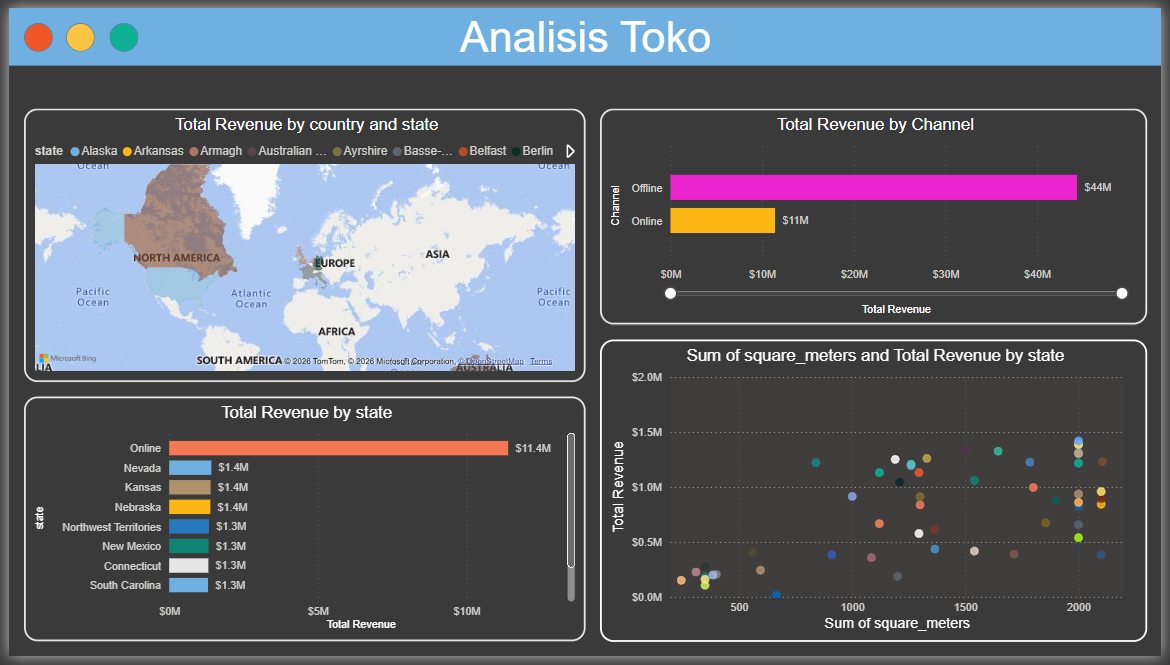

The page's visual inventory and layout, read from the dashboard file:
{"tool":"powerbi","page":{"name":"Analisis Toko","canvas":[1280,720],"ordinal":2},"visuals":[{"type":"shape","box":[0,0,1280,64],"z":0},{"type":"textbox","box":[16,0,1248,80],"z":1000},{"type":"shape","box":[16,16,32,32],"z":2000},{"type":"shape","box":[64,16,32,32],"z":3000},{"type":"shape","box":[112,16,32,32],"z":4000},{"type":"filledMap","fields":{"Category":["retail_db stores.country"],"Series":["retail_db stores.state"]},"box":[16,112,624,304],"z":5000},{"type":"barChart","fields":{"Category":["retail_db sales.Channel"],"Y":["retail_db sales.Total Revenue"]},"box":[656,112,608,240],"z":5001},{"type":"scatterChart","fields":{"X":["Sum(retail_db stores.square_meters)"],"Y":["retail_db sales.Total Revenue"],"Category":["retail_db stores.state"]},"box":[656,368,608,336],"z":5002},{"type":"barChart","fields":{"Category":["retail_db stores.state"],"Y":["retail_db sales.Total Revenue"]},"box":[16,432,624,272],"z":5003}]}

Visuals, with their boxes in screenshot pixels (x1, y1, x2, y2), scaled from the page's 1280x720 canvas onto the 1170x665 screenshot:
shape: 0:0:1169:59
textbox: 15:0:1155:74
shape: 15:15:44:44
shape: 58:15:88:44
shape: 102:15:132:44
filledMap - retail_db stores.country x retail_db stores.state: 15:103:585:384
barChart - retail_db sales.Channel x retail_db sales.Total Revenue: 600:103:1155:325
scatterChart - Sum(retail_db stores.square_meters) x retail_db sales.Total Revenue: 600:340:1155:650
barChart - retail_db stores.state x retail_db sales.Total Revenue: 15:399:585:650
